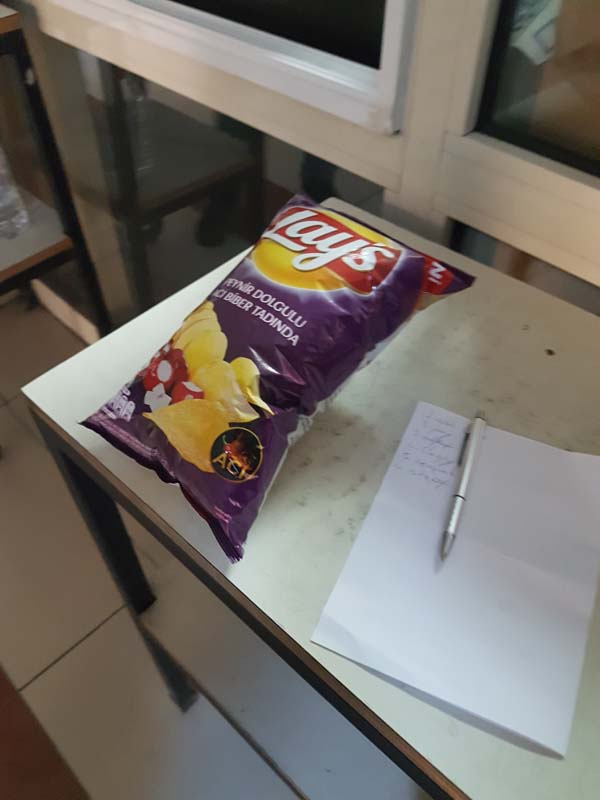layspeynirsoslu: (80, 188, 478, 557)
